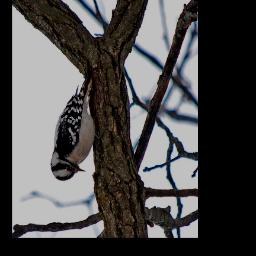Woodpecker: (50, 69, 107, 181)
